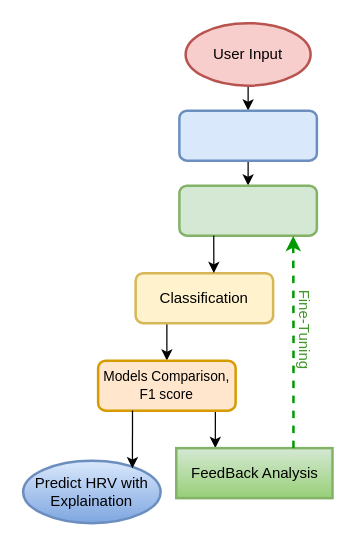
Image size: 355x545. Some labels were removed from this diagram. Each missing label, with the box of its shape:
Trained BERT models: (178, 184, 318, 236)
Translation of Post: (178, 109, 318, 161)
